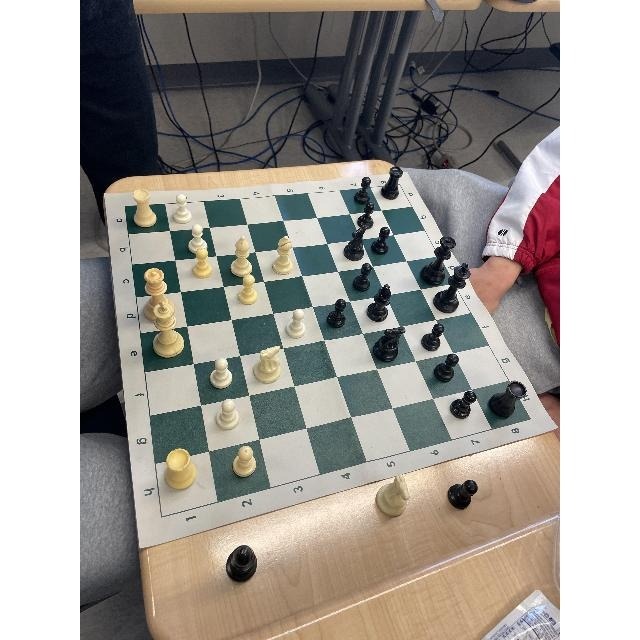black-knight: (422, 241, 458, 291)
black-pawn: (488, 383, 527, 419), (426, 339, 460, 377), (367, 282, 395, 322), (372, 329, 404, 363), (446, 392, 477, 424), (433, 354, 459, 385), (382, 163, 402, 203), (418, 324, 447, 350), (325, 301, 347, 328), (373, 222, 390, 256), (353, 264, 371, 292)
black-rook: (429, 255, 465, 315), (346, 204, 371, 264), (226, 546, 259, 587)
white-bishop: (159, 448, 199, 495), (149, 319, 185, 359), (127, 195, 163, 229)
white-pawn: (232, 230, 259, 290), (186, 221, 211, 285), (249, 349, 288, 385), (226, 445, 263, 480), (206, 354, 238, 392), (268, 236, 293, 276), (212, 401, 244, 429)
white-queen: (139, 264, 179, 333)
